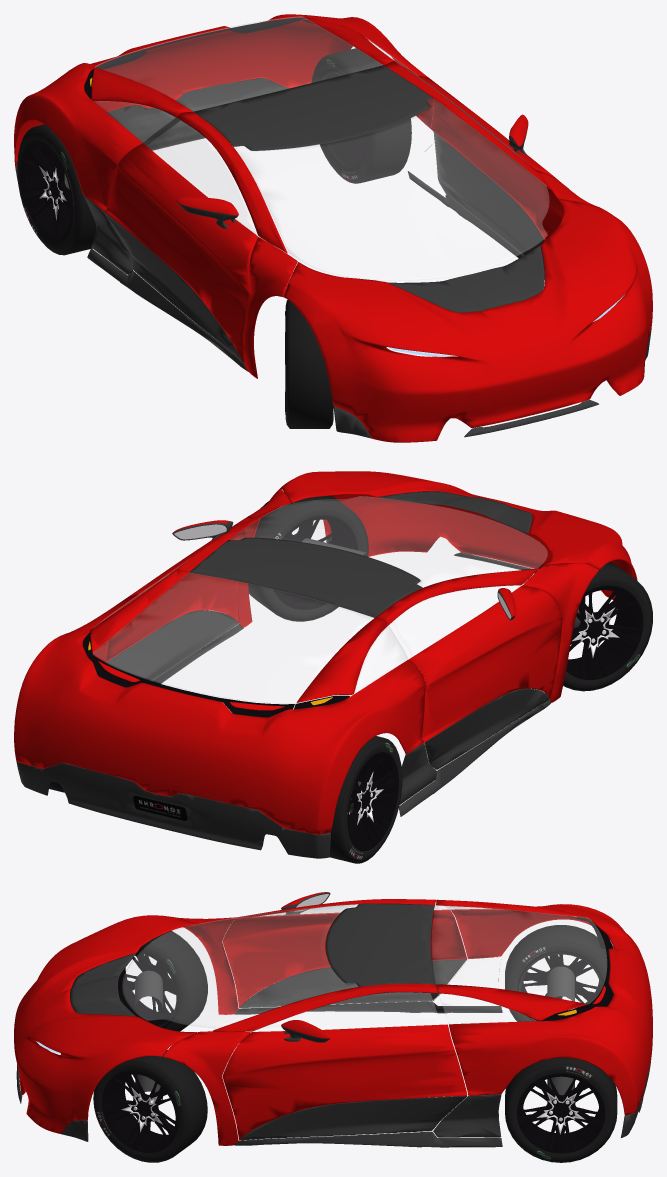
The model's file is car-concept.76b7b247.glb.
The picture shows the model from 3 angles, top to bottom: view 1: azimuth 30°, elevation 25°; view 2: azimuth 150°, elevation 25°; view 3: azimuth 270°, elevation 25°; orthographic projection. The views are drawn at different scales.
Visible parts, largest first — view 1: BodyHood, BodyWindshield, BodyRearPanelsColor1, BodyRearwindow, BodyDoorRColor1, BodyRoofPanel, BodyPanelsColor2, BodyPillars, BodyDoorLColor1, BodyDoorLColor2, BodyHoodTopgrill, WheelFrontR (+9 smaller); view 2: BodyRearPanelsColor1, BodyRearwindow, BodyHood, BodyWindshield, BodyPanelsColor2, BodyDoorRColor1, BodyRoofPanel, BodyPillars, BodyDoorLColor1, WheelFrontRRim, BodyDoorLColor2, WheelFrontL (+10 smaller); view 3: BodyRearPanelsColor1, BodyWindshield, BodyDoorLColor1, BodyHood, BodyRearwindow, BodyPillars, BodyDoorRColor1, BodyRoofPanel, BodyPanelsColor2, BodyDoorLColor2, WheelFrontL, WheelRearLRim (+14 smaller).
Part boxes in pixels (x1,y1,x2,y2): BodyHood: (284, 198, 652, 442); BodyWindshield: (234, 98, 549, 280); BodyRearPanelsColor1: (14, 14, 435, 211); BodyRearwindow: (95, 16, 382, 111); BodyDoorRColor1: (104, 143, 257, 363); BodyRoofPanel: (194, 65, 432, 150); BodyPanelsColor2: (15, 78, 651, 438); BodyPillars: (176, 61, 599, 378); BodyDoorLColor1: (418, 76, 563, 239); BodyDoorLColor2: (434, 132, 544, 272); BodyHoodTopgrill: (388, 245, 544, 312); WheelFrontR: (285, 299, 333, 428); BodyRearPanelsColor1: (14, 569, 425, 834); BodyRearwindow: (92, 573, 373, 703); BodyHood: (279, 471, 637, 599); BodyWindshield: (229, 496, 547, 587); BodyPanelsColor2: (16, 538, 550, 858); BodyDoorRColor1: (409, 585, 562, 742); BodyRoofPanel: (189, 537, 422, 617); BodyPillars: (175, 489, 599, 702); BodyDoorLColor1: (105, 517, 250, 662); WheelFrontRRim: (566, 585, 643, 679); BodyDoorLColor2: (105, 610, 238, 681); WheelFrontL: (248, 492, 368, 621); BodyRearPanelsColor1: (436, 899, 652, 1115); BodyWindshield: (122, 904, 357, 1028); BodyDoorLColor1: (222, 1024, 467, 1140); BodyHood: (14, 915, 196, 1133); BodyRearwindow: (432, 905, 606, 1003); BodyPillars: (163, 899, 437, 1145); BodyDoorRColor1: (222, 909, 467, 1007); BodyRoofPanel: (326, 903, 434, 986); BodyPanelsColor2: (16, 957, 652, 1147); BodyDoorLColor2: (240, 1096, 467, 1140); WheelFrontL: (93, 1050, 207, 1162); WheelRearLRim: (517, 1073, 605, 1153).
Size of the model in its own units: 2.54 by 1.15 by 4.36.
14 materials, 4 textured.
